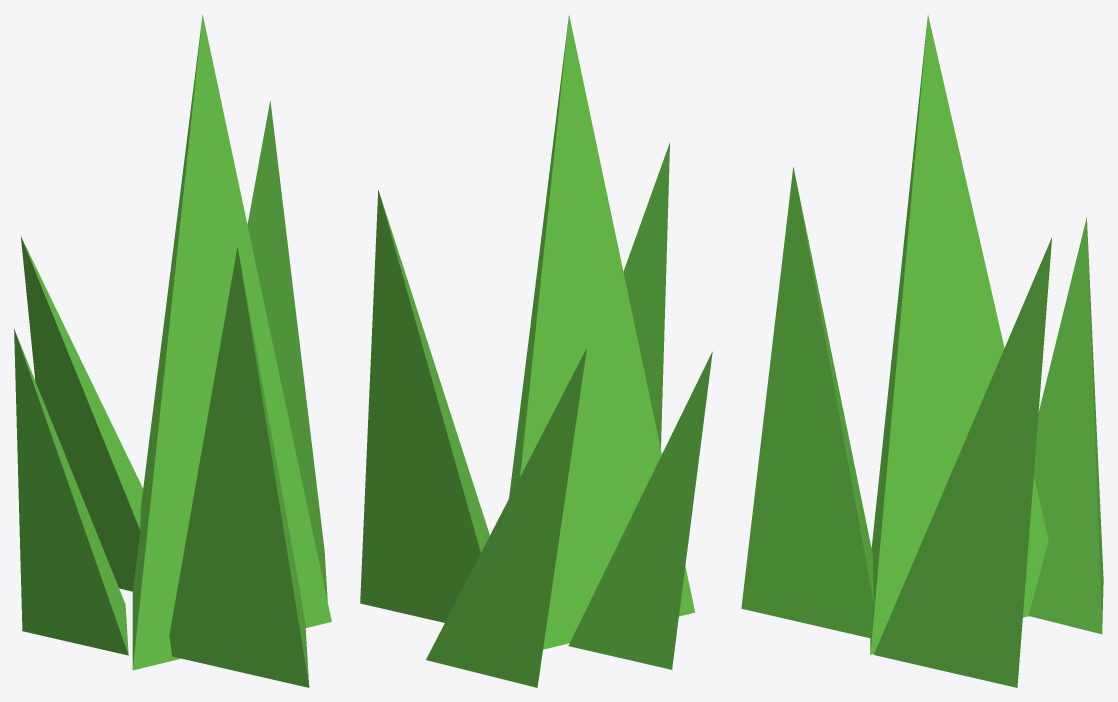
The model's file is grass.fbx.
3 views of the same model, side by side, from view 1: azimuth 30°, elevation 25°; view 2: azimuth 150°, elevation 25°; view 3: azimuth 270°, elevation 25° (orthographic). The views are drawn at different scales.
Visible parts, largest first — view 1: Cone, Cone.003, Cone.002, Cone.004, Cone.001; view 2: Cone, Cone.001, Cone.004, Cone.002, Cone.003; view 3: Cone, Cone.003, Cone.001, Cone.004.
Part boxes in pixels (x1=…): Cone: x1=132, y1=15, x2=331, y2=670; Cone.003: x1=169, y1=247, x2=309, y2=687; Cone.002: x1=14, y1=329, x2=128, y2=655; Cone.004: x1=21, y1=237, x2=142, y2=591; Cone.001: x1=247, y1=101, x2=327, y2=600; Cone: x1=509, y1=14, x2=695, y2=649; Cone.001: x1=360, y1=190, x2=489, y2=622; Cone.004: x1=426, y1=348, x2=586, y2=687; Cone.002: x1=568, y1=351, x2=712, y2=669; Cone.003: x1=623, y1=143, x2=669, y2=448; Cone: x1=870, y1=15, x2=1048, y2=654; Cone.003: x1=741, y1=167, x2=873, y2=638; Cone.001: x1=874, y1=237, x2=1051, y2=687; Cone.004: x1=1028, y1=217, x2=1103, y2=634.
Bounding box in the file's own units: 247 × 429 × 237.
